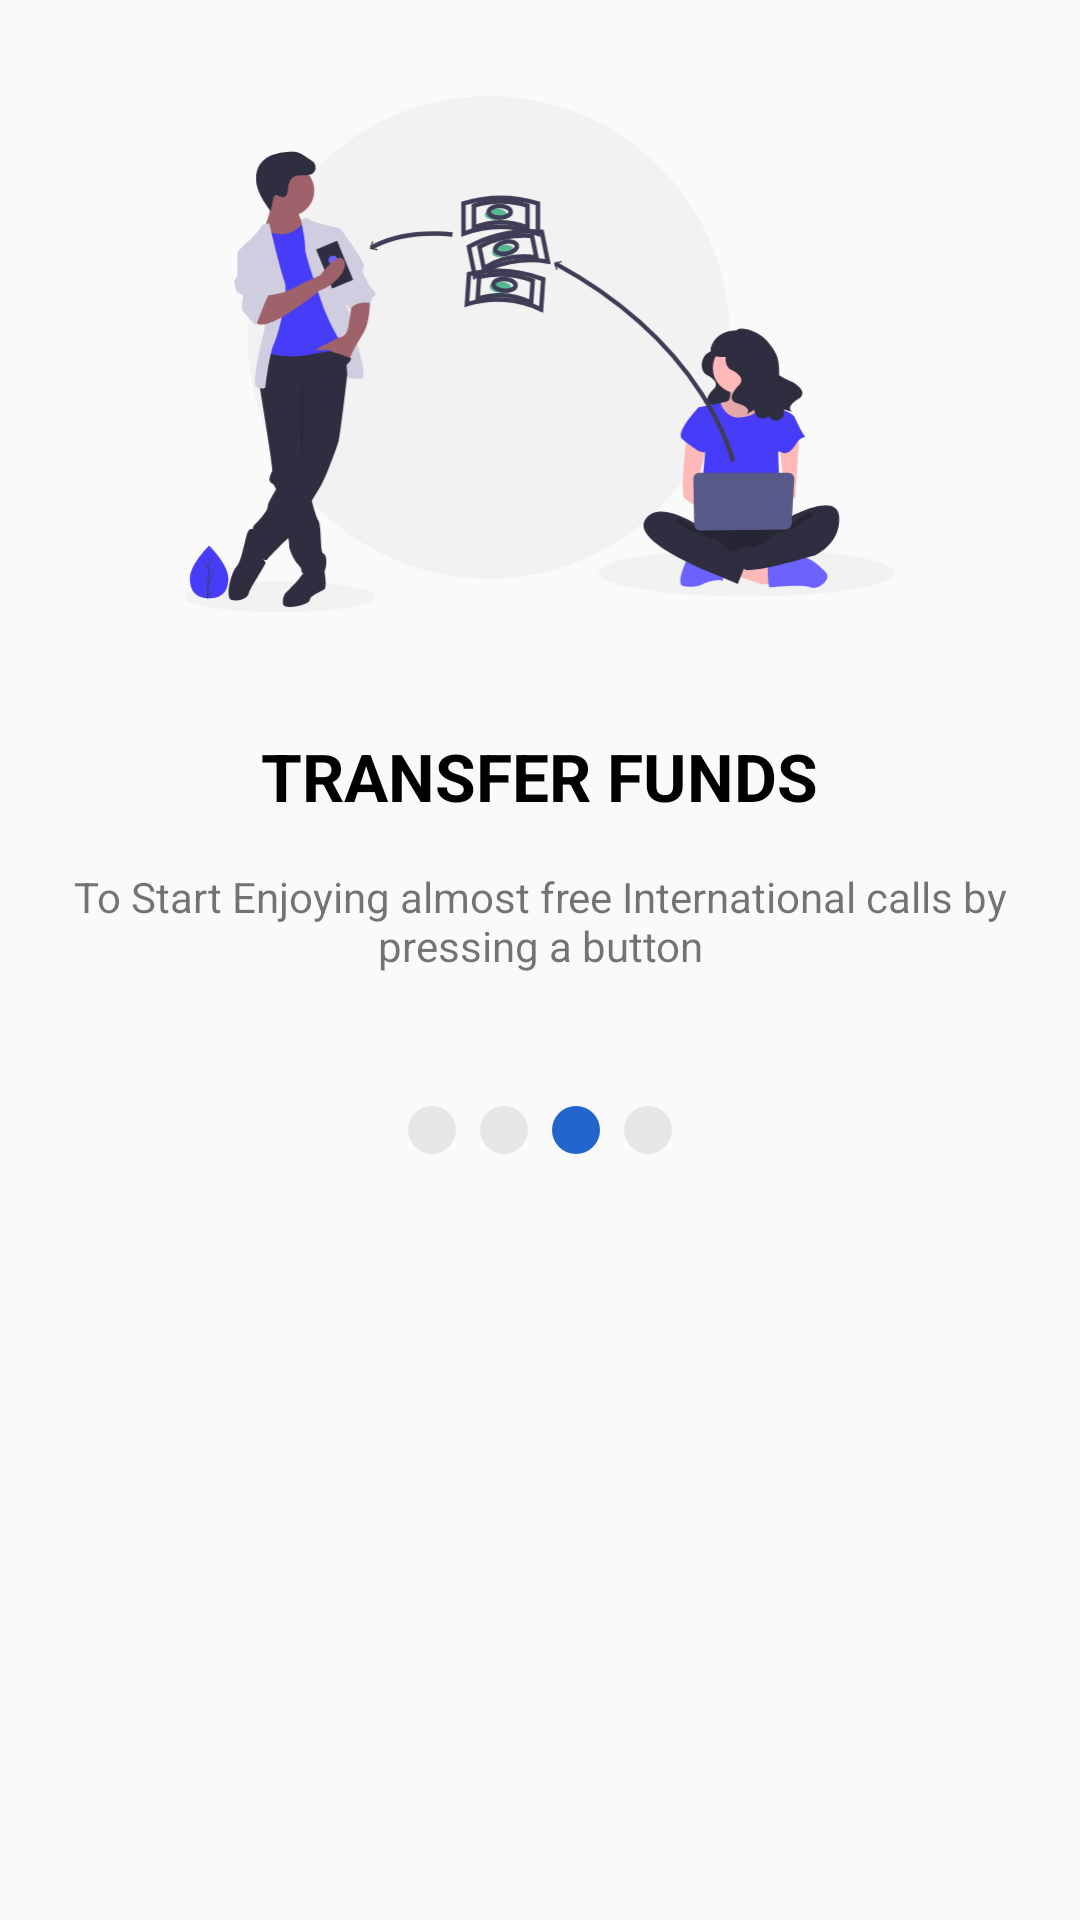

Point at icon controls on the screen. Image size 1080px×1920px, points as [x,y].
fiber manual record: [576,1130]
